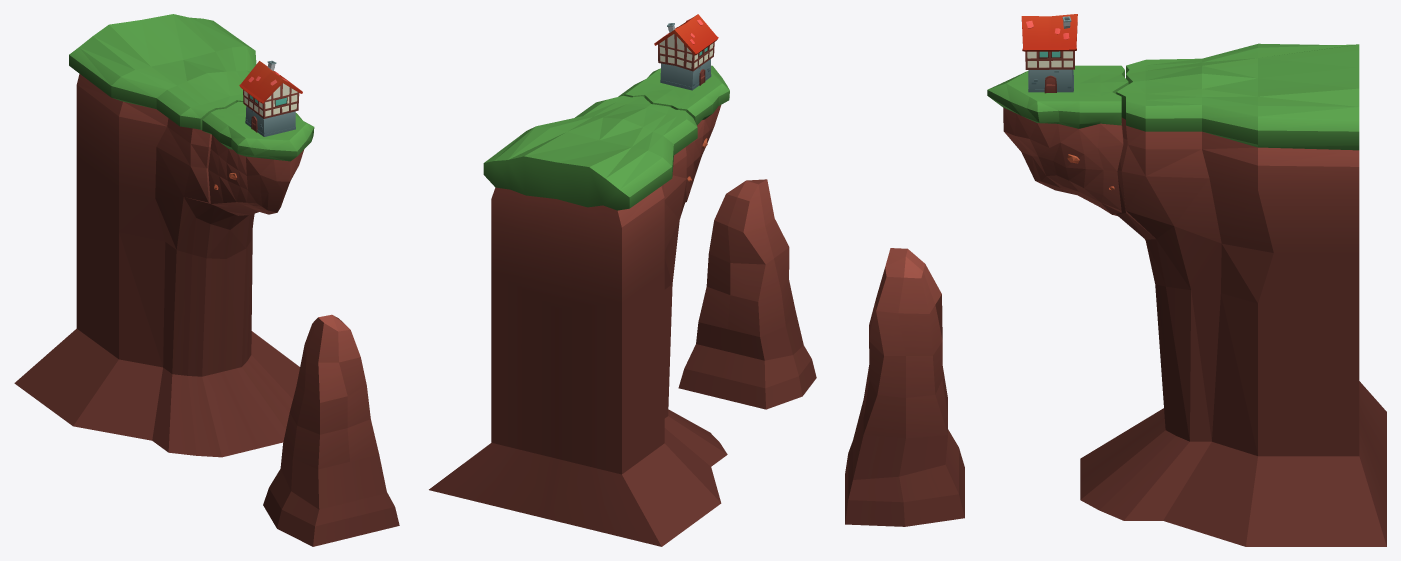
The model's file is House_Cliff.fbx.
3 views of the same model, side by side, from view 1: azimuth 30°, elevation 25°; view 2: azimuth 150°, elevation 25°; view 3: azimuth 270°, elevation 25° (orthographic). The views are drawn at different scales.
Parts seen in each view (by area): view 1: Cliff_Main, MiniCliff, Cliff_Main.001, Cliff_House; view 2: Cliff_Main, MiniCliff, Cliff_Main.001, Cliff_House; view 3: Cliff_Main, MiniCliff, Cliff_Main.001, Cliff_House.
Boxes of the visible parts, <box> form: Cliff_Main: <box>14,14,299,457</box>; MiniCliff: <box>263,314,399,546</box>; Cliff_Main.001: <box>202,101,314,215</box>; Cliff_House: <box>239,61,302,136</box>; Cliff_Main: <box>429,95,727,546</box>; MiniCliff: <box>678,179,816,409</box>; Cliff_Main.001: <box>618,65,729,202</box>; Cliff_House: <box>654,14,718,90</box>; Cliff_Main: <box>1080,43,1386,546</box>; MiniCliff: <box>845,248,964,526</box>; Cliff_Main.001: <box>987,65,1128,215</box>; Cliff_House: <box>1021,14,1077,93</box>.
Size of the model in its own units: 757 by 1269 by 1283.
